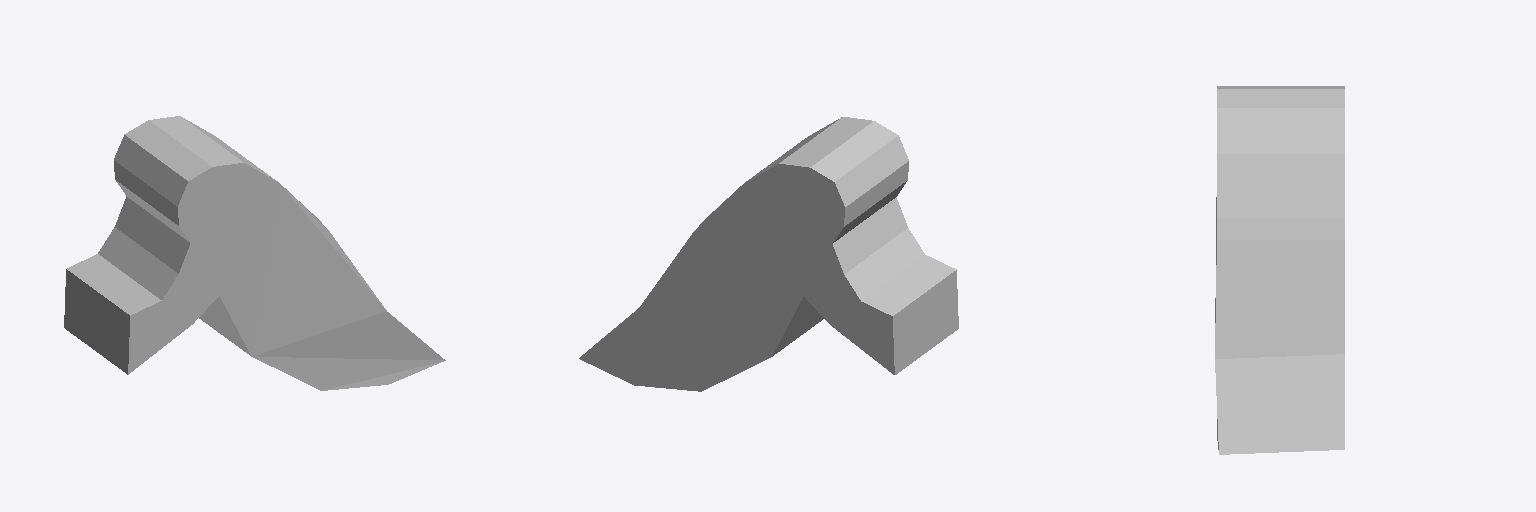
Rendered from roughWings.obj.
The picture shows the model from 3 angles: view 1: azimuth 30°, elevation 25°; view 2: azimuth 150°, elevation 25°; view 3: azimuth 270°, elevation 25°; orthographic projection.
Visible parts, largest first — view 1: Cube_Cube.002; view 2: Cube_Cube.002; view 3: Cube_Cube.002.
Boxes of the visible parts, x1,y1,x2,y2 form: Cube_Cube.002: [64, 116, 445, 390]; Cube_Cube.002: [579, 117, 958, 391]; Cube_Cube.002: [1215, 86, 1344, 454].
Bounding box in the file's own units: 1.41 × 1.1 × 0.4977.